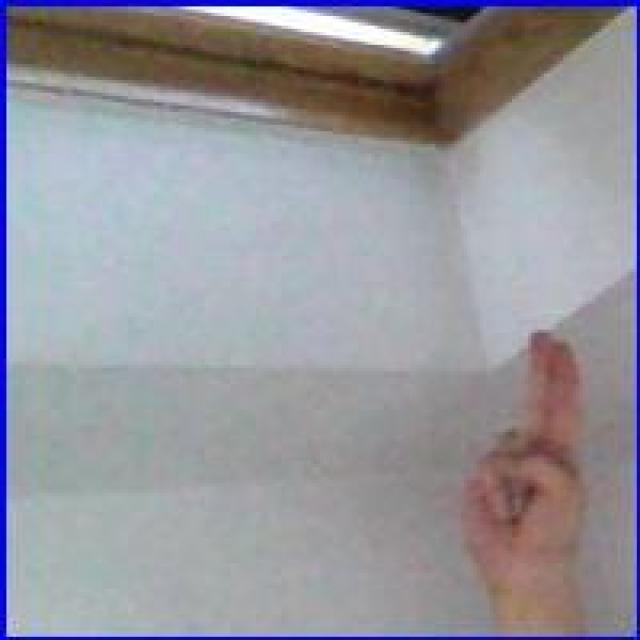U: (456, 325, 590, 590)
